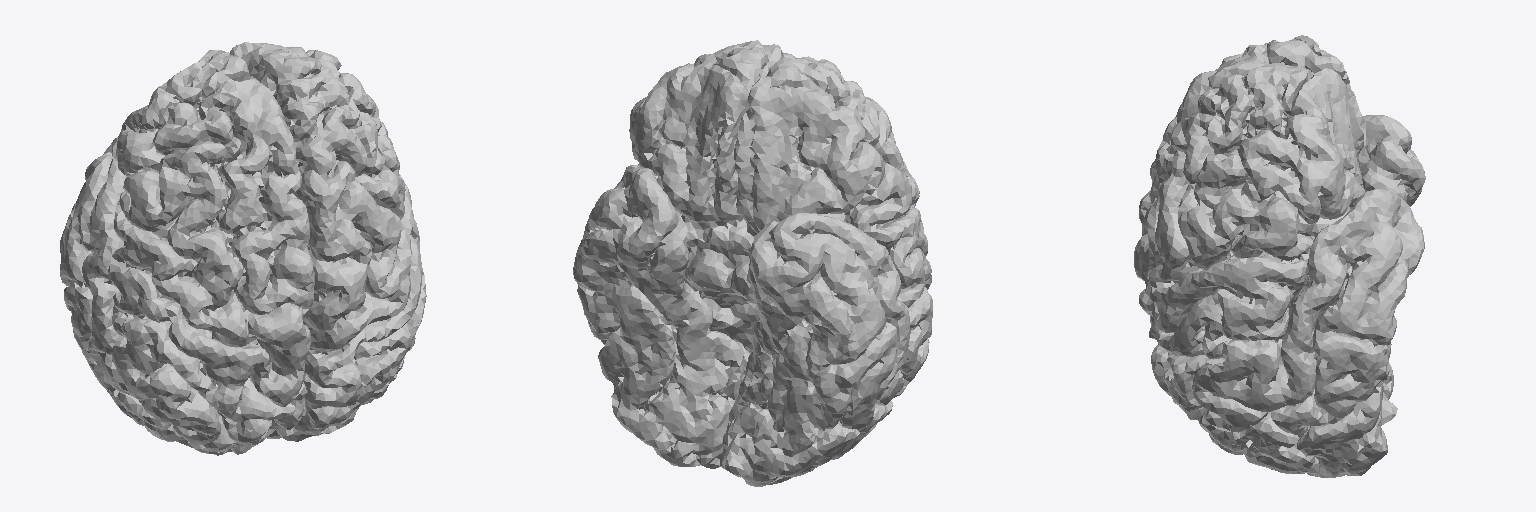
File: brain18.obj
3 renders of one model, left to right at view 1: azimuth 30°, elevation 25°; view 2: azimuth 150°, elevation 25°; view 3: azimuth 270°, elevation 25°, orthographic.
Parts seen in each view (by area): view 1: brain.001; view 2: brain.001; view 3: brain.001.
Part boxes in pixels (x1,y1,x2,y2): brain.001: (60,42,426,455); brain.001: (573,40,932,486); brain.001: (1134,35,1425,477).
Size of the model in its own units: 0.3266 by 0.4141 by 0.2715.